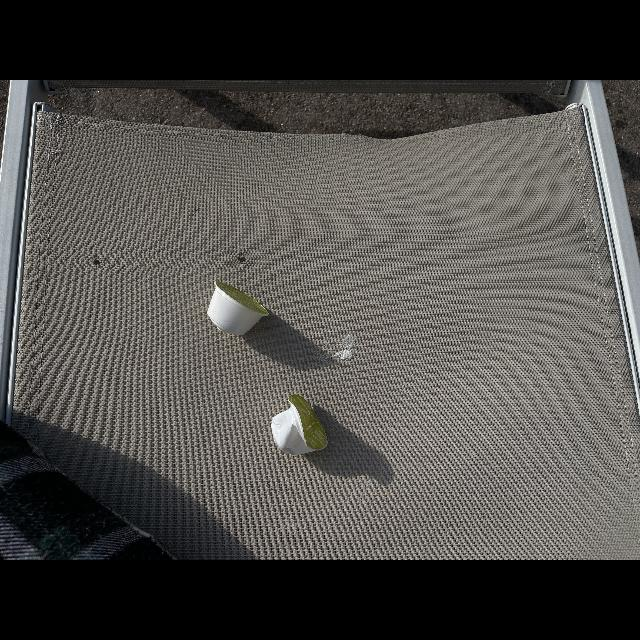damaged_capsule: (268, 389, 330, 459)
intact_capsule: (205, 278, 271, 338)
